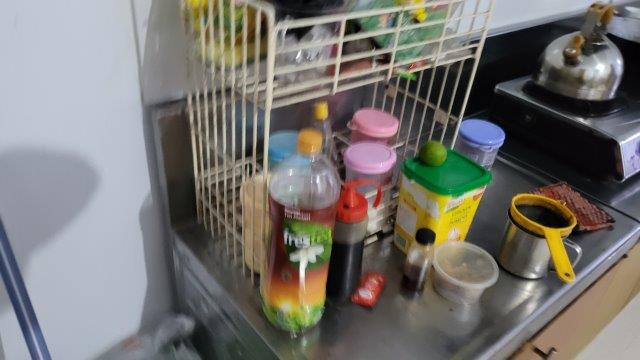botolplastik: (261, 129, 340, 331)
